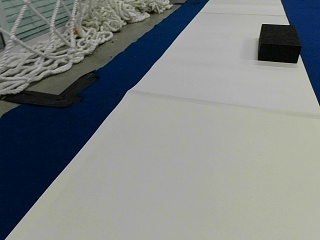block: (258, 23, 300, 62)
